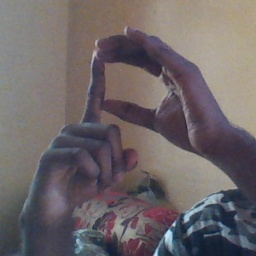P: (50, 22, 200, 194)
